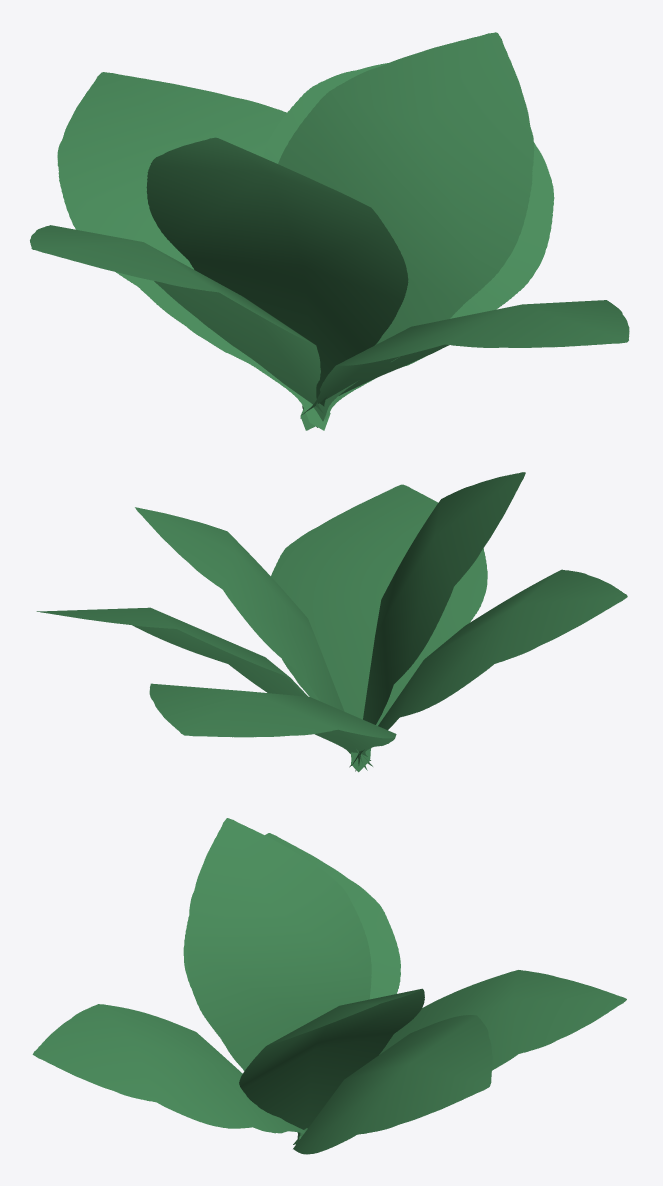
The model's file is LeafPlant3.fbx.
3 renders of one model, top to bottom at view 1: azimuth 30°, elevation 25°; view 2: azimuth 150°, elevation 25°; view 3: azimuth 270°, elevation 25°, orthographic. The views are drawn at different scales.
Visible parts, largest first — view 1: Leaf Plant 3; view 2: Leaf Plant 3; view 3: Leaf Plant 3.
Part boxes in pixels (box(x1,y1,x2,y2)): Leaf Plant 3: box(30, 32, 629, 430); Leaf Plant 3: box(36, 472, 627, 772); Leaf Plant 3: box(32, 818, 626, 1154).
Bounding box in the file's own units: 177 × 104 × 208.
